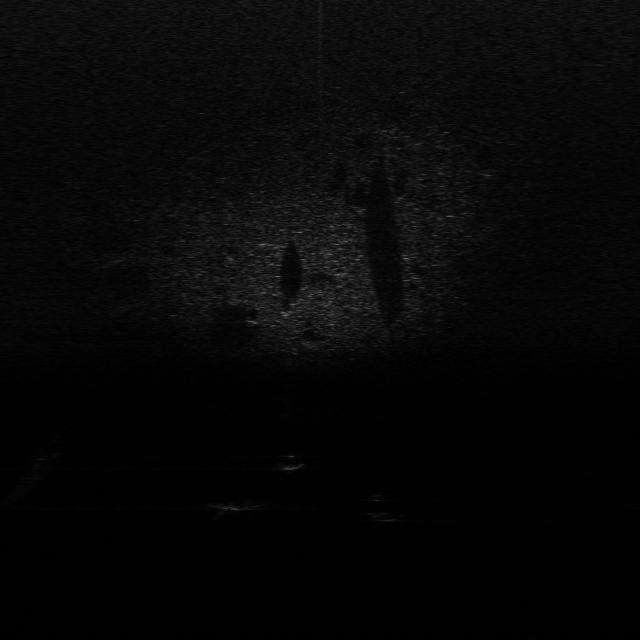ball: (273, 451, 312, 474)
square cage: (202, 493, 272, 519)
tyre: (360, 491, 410, 526)
